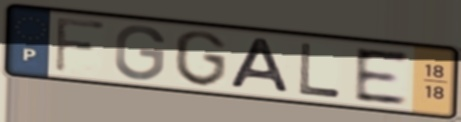A: (227, 36, 294, 96)
E: (352, 46, 411, 106)
F: (52, 14, 109, 75)
G: (172, 28, 229, 89), (111, 23, 168, 83)
L: (297, 41, 344, 100)
